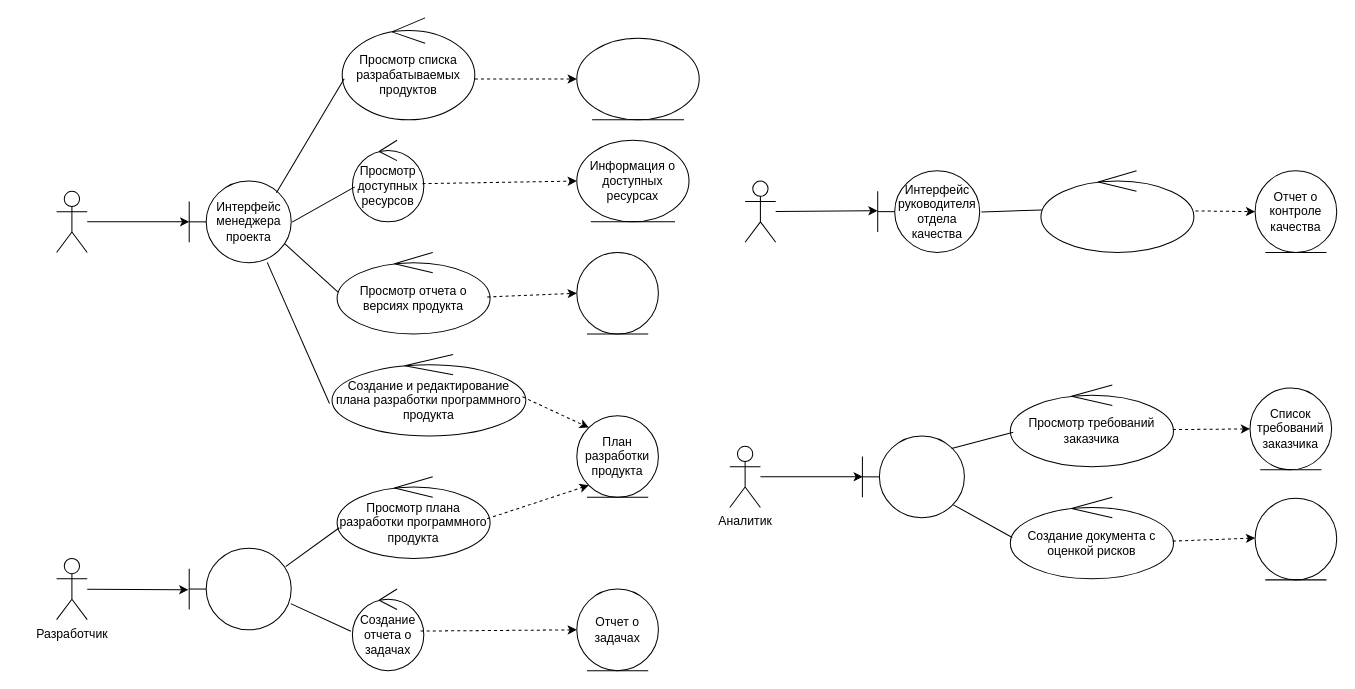
Some shapes in this 1355 by 689 pixel diagram are drawn without their labels. The box of each missing label's shape, as (x1, y1, x2, y2) in pixels:
Документ с оценкой рисков: (1254, 497, 1337, 580)
Интерфейс аналитика: (861, 435, 964, 518)
Интерфейс разработчика: (188, 547, 291, 630)
Менеджер проекта: (56, 190, 87, 252)
Отчет о версиях продукта: (576, 251, 658, 334)
Руководитель отдела качества: (744, 180, 776, 242)
Создание отчета о контроле качества: (1040, 170, 1194, 252)
Список разрабатываемых продуктов: (576, 37, 699, 120)
